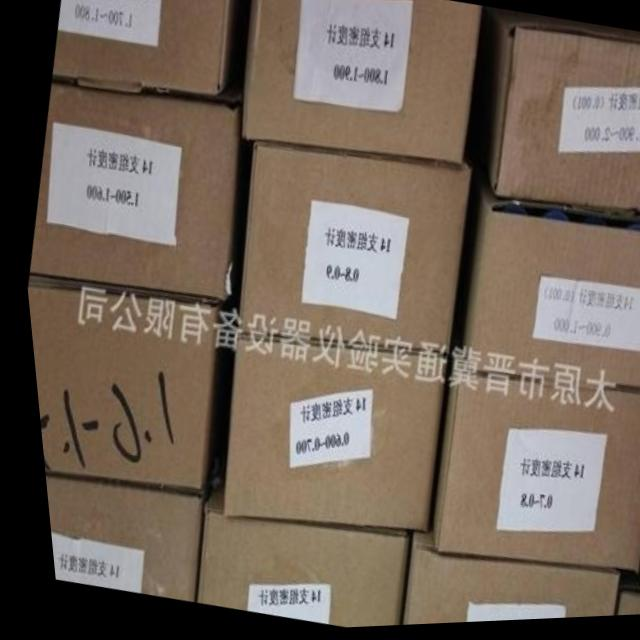box: (24, 48, 246, 306), (228, 141, 472, 360), (419, 344, 640, 579), (212, 332, 443, 535), (450, 153, 640, 396), (22, 280, 224, 495), (237, 0, 485, 168), (475, 12, 640, 217), (184, 477, 401, 630), (36, 473, 215, 604), (387, 529, 610, 628), (52, 0, 250, 97), (602, 576, 631, 621)
